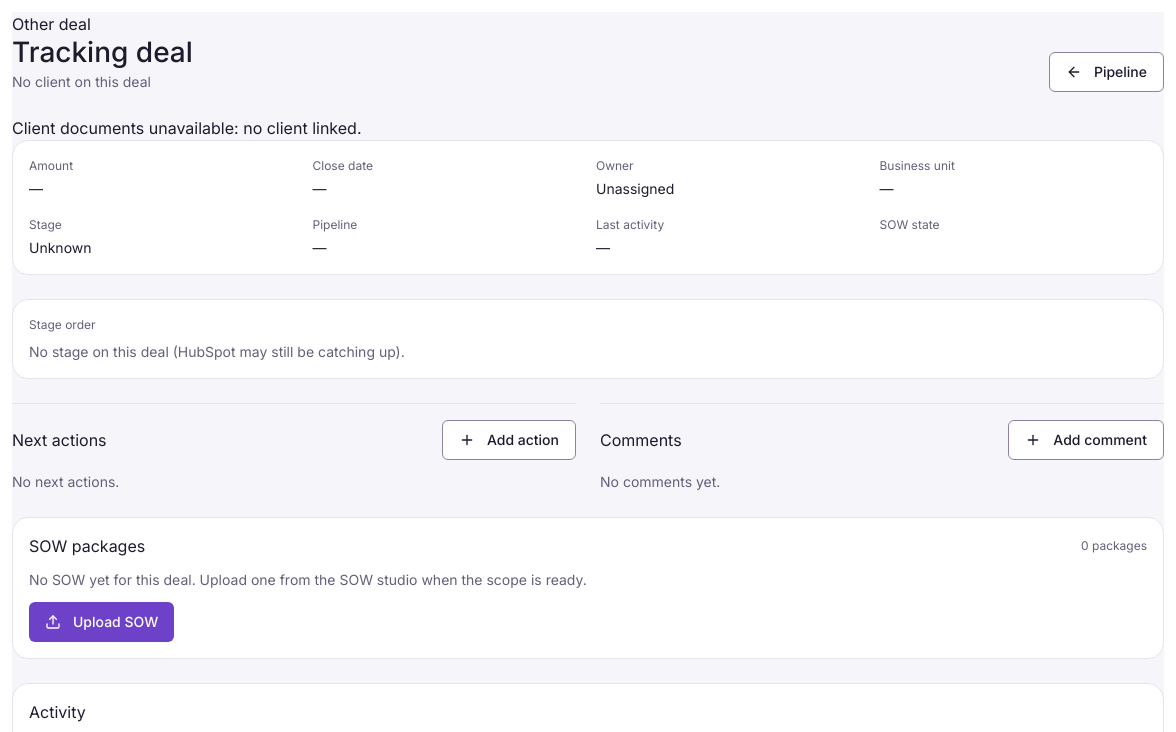
Test: a delayed post-mutation refresh cannot put the old deal's controls under a new heading
Click the button "Add comment": click(1086, 440) [1008,420,1164,460]
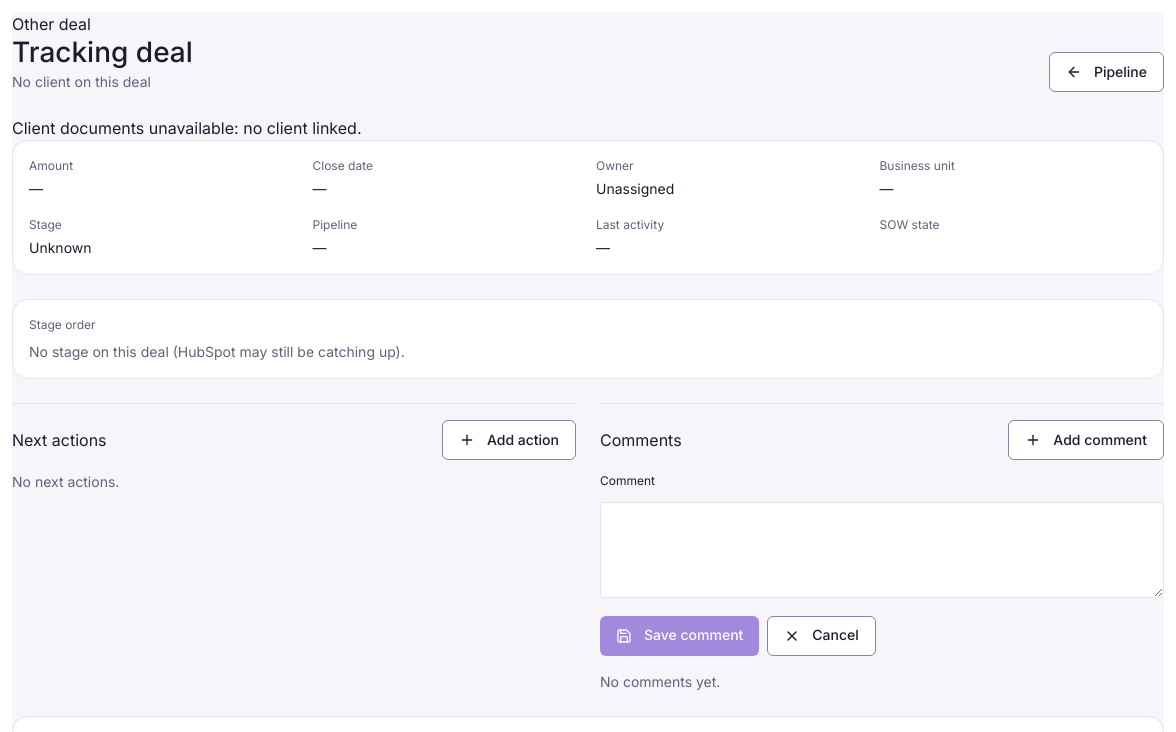
In the text box labelled "Comment": (882, 550) [600,502,1164,598], type "Old deal text"
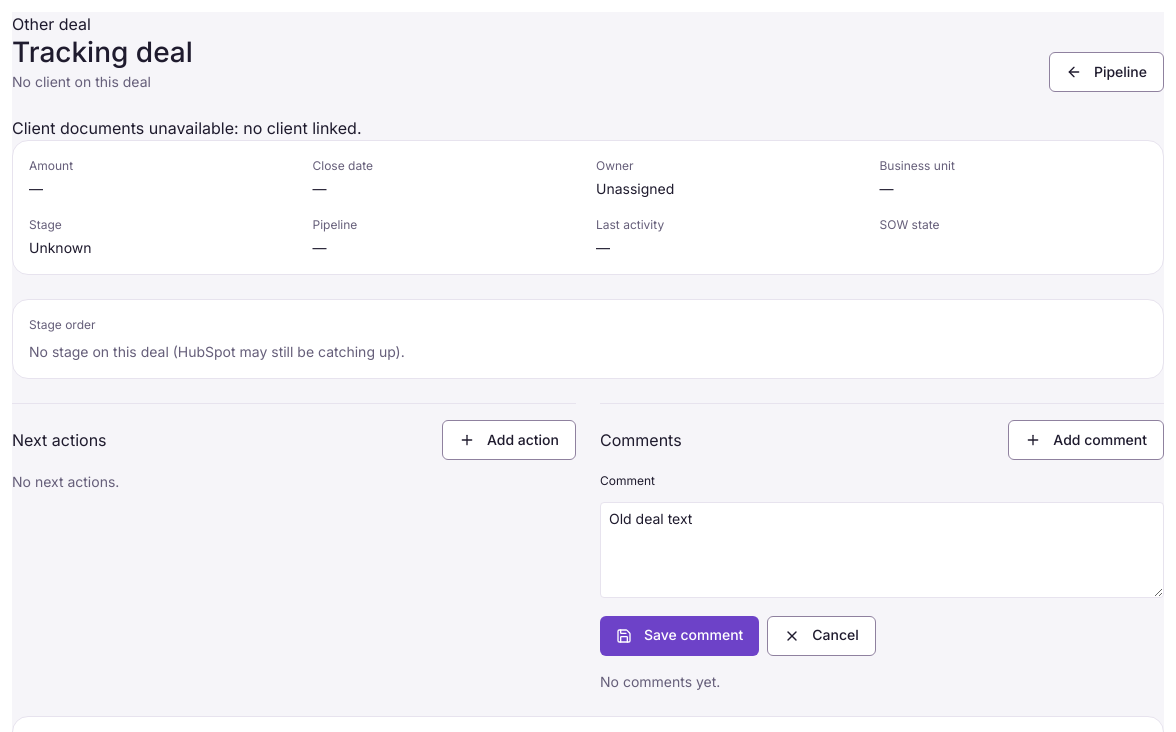
Click the button "Save comment": click(680, 636) [600,616,759,656]
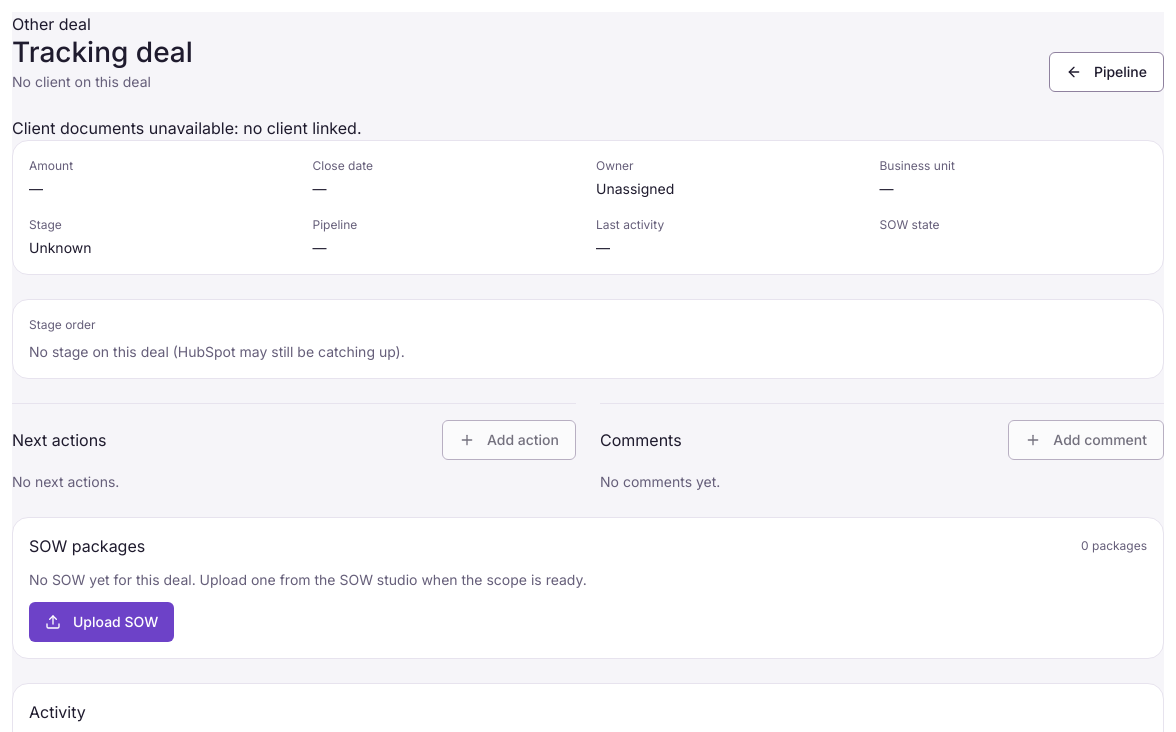
Click the link "Other deal": click(51, 24) [12,14,91,34]
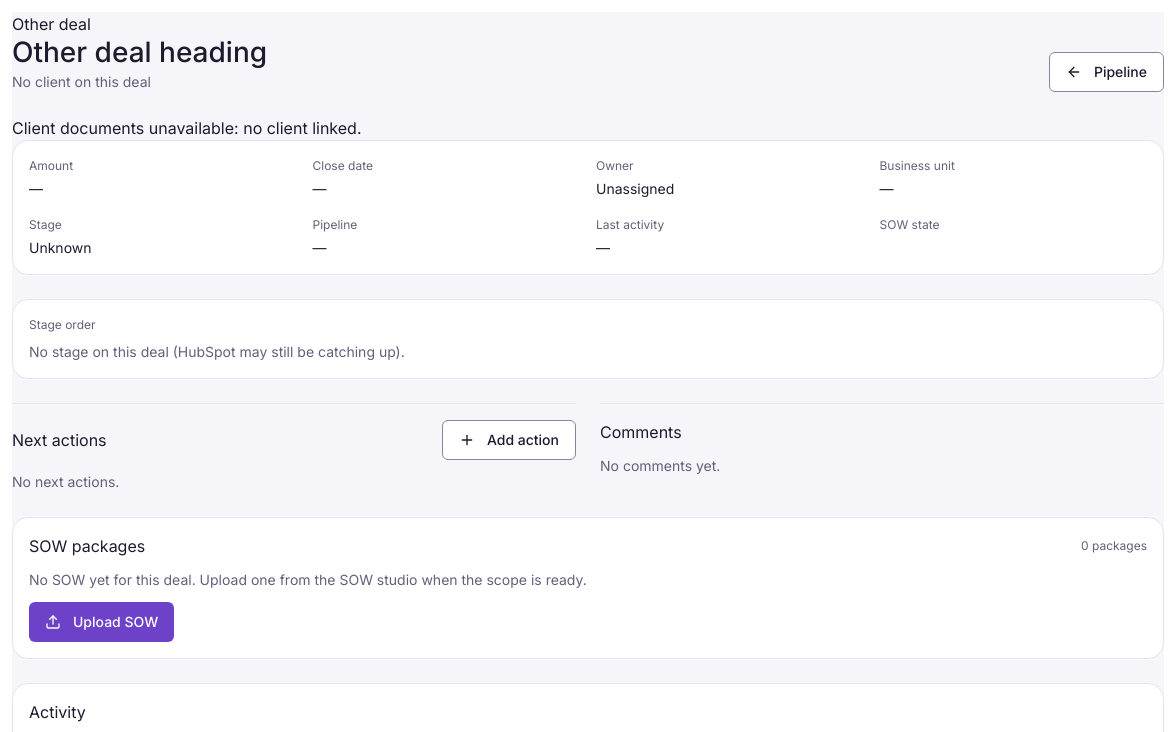
Check: the text "Old deal text" is not shown
Check: the heading "Other deal heading" is shown, box [12,36,267,68]
